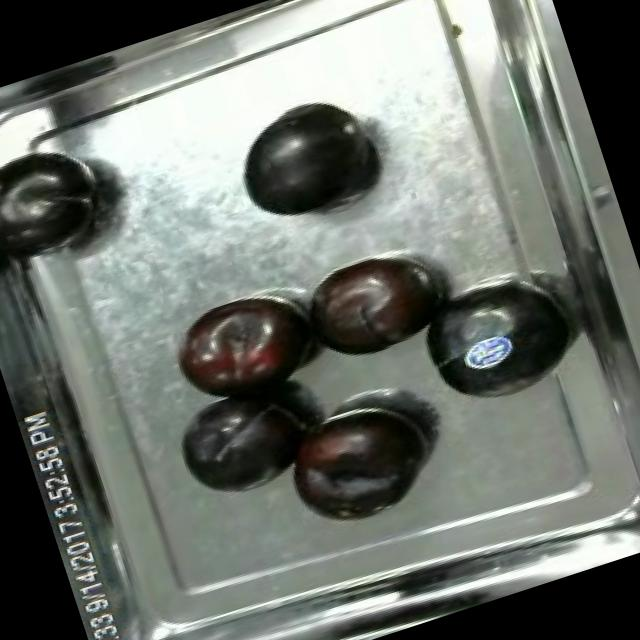Fruit: (403, 262, 589, 426), (156, 274, 332, 428), (222, 86, 396, 240), (269, 389, 443, 536), (288, 236, 454, 375), (164, 375, 324, 512), (0, 129, 126, 281)
